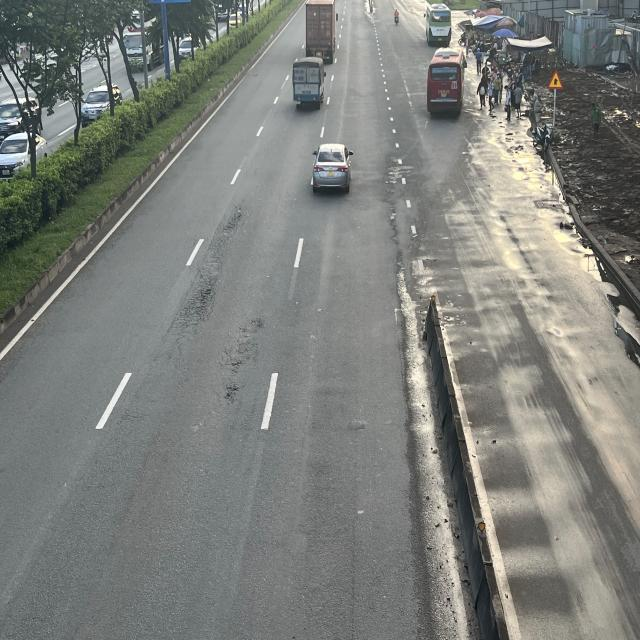car: (312, 142, 355, 193)
coach: (425, 48, 463, 114), (425, 3, 452, 46)
container: (304, 1, 337, 61)
truck: (293, 58, 327, 109)
